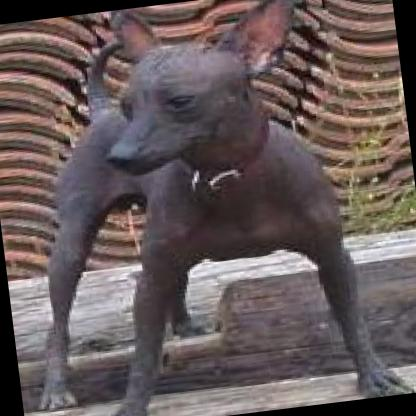Mexican_hairless: (0, 0, 411, 416)
